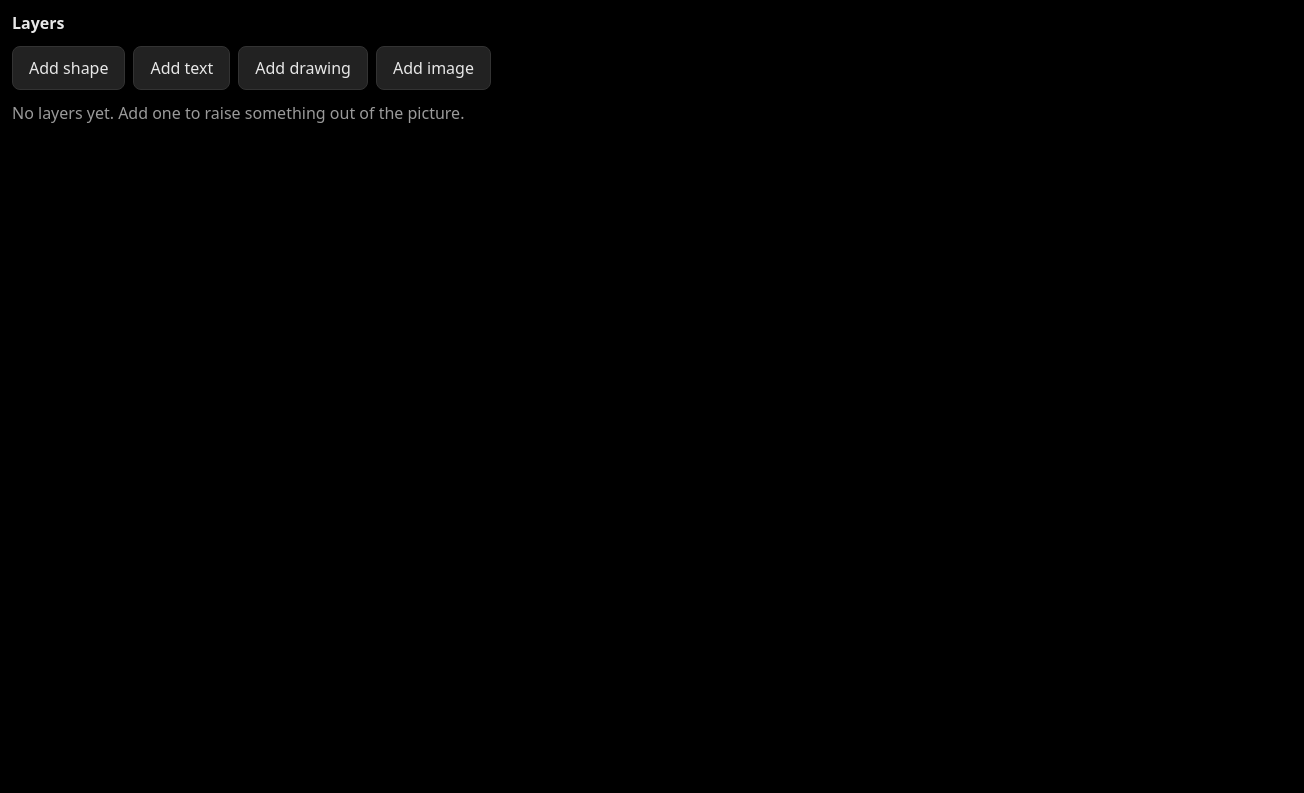
Scenario: warns about characters the fonts don't include
The width and height of the screenshot is (1304, 793).
Click the button "Add text": (182, 68) [134, 46, 230, 90]
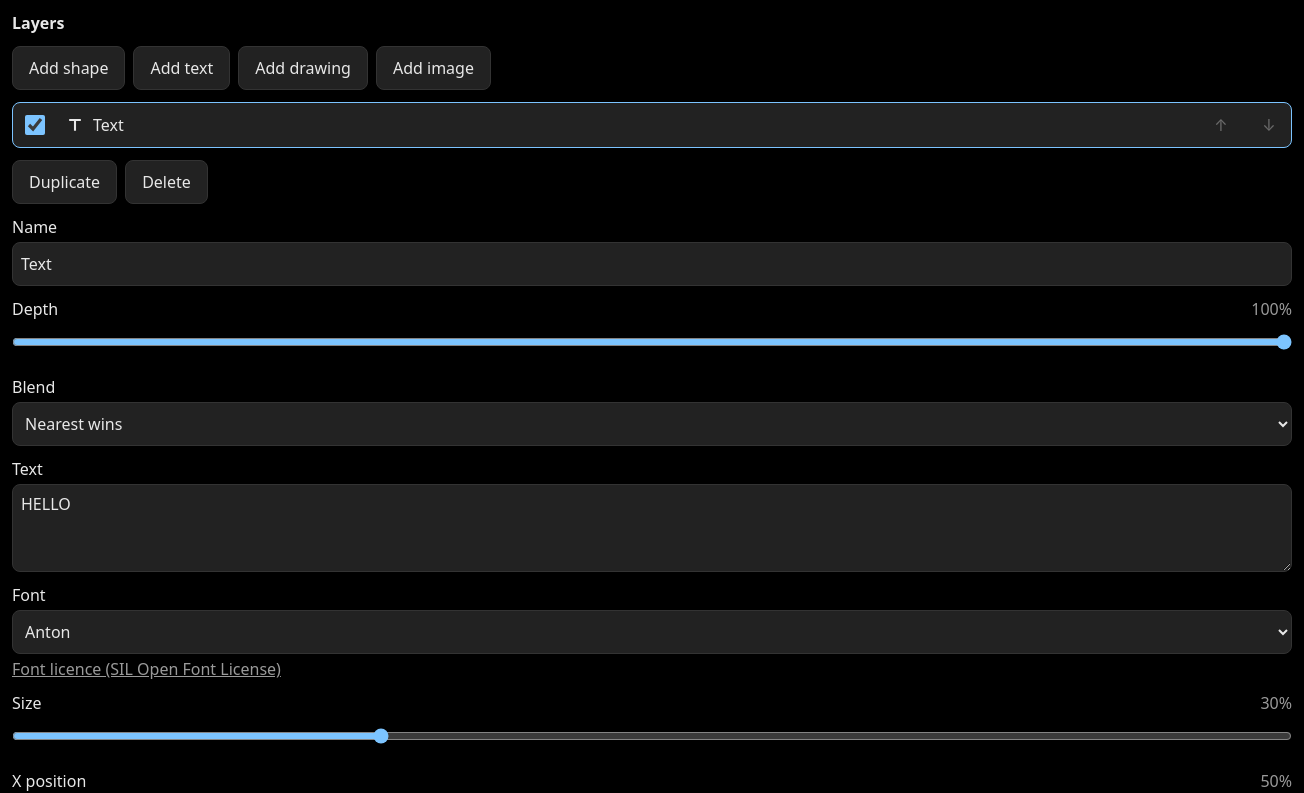
Replace the text in the text box labelled "Text" with "Hi 🙂": (652, 528) [12, 484, 1292, 572]
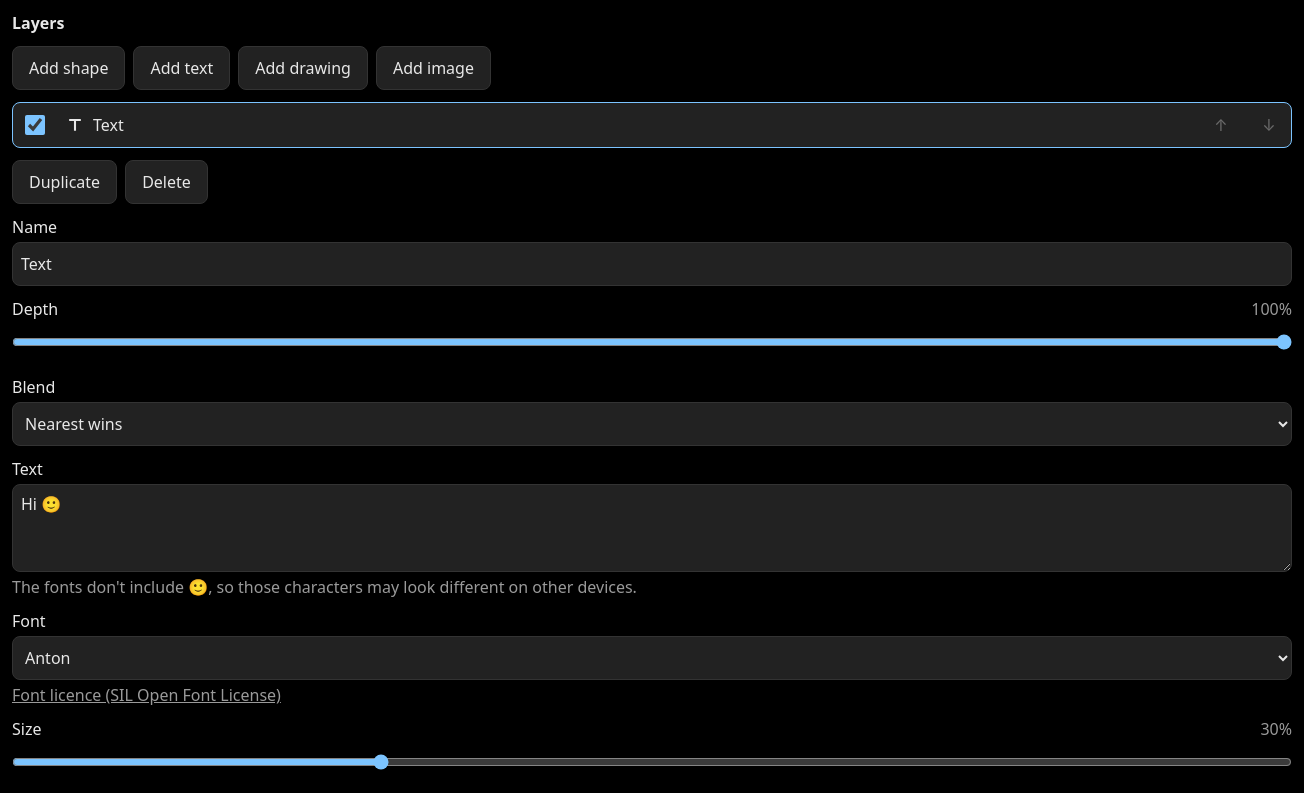
Expected: the text "The fonts don't include 🙂" is shown, [12, 576, 637, 598]
